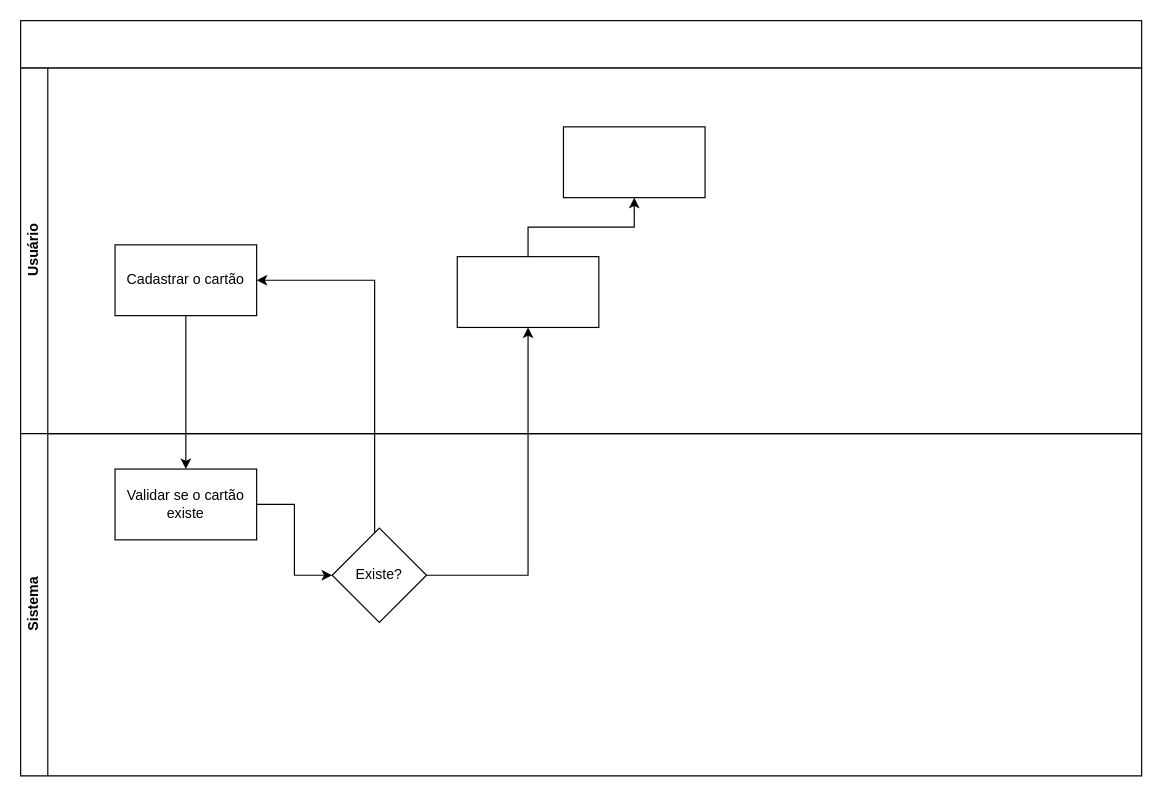
The diagram is 1162 pixels wide and 796 high, and some of its shapes have lost their labels. Each missing label, with the centre of its shape:
Cadastrar Despesa: pixel 527 291
Cadastro de Despesas no sistema MOCA: pixel 580 43
